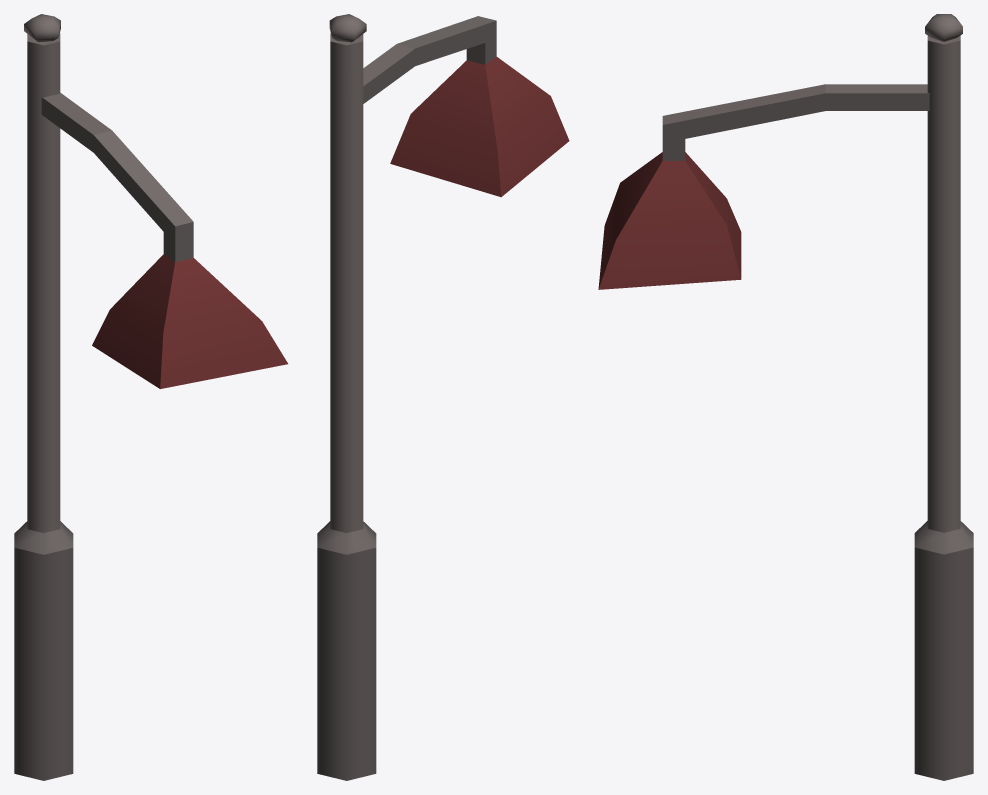
File: Street_Lamp_A.fbx
The picture shows the model from 3 angles, left to right: view 1: azimuth 30°, elevation 25°; view 2: azimuth 150°, elevation 25°; view 3: azimuth 270°, elevation 25°; orthographic projection.
Parts seen in each view (by area): view 1: Street_Lamp_A; view 2: Street_Lamp_A; view 3: Street_Lamp_A.
Boxes of the visible parts, x1=… form: Street_Lamp_A: x1=14, y1=14, x2=287, y2=780; Street_Lamp_A: x1=317, y1=14, x2=569, y2=780; Street_Lamp_A: x1=598, y1=14, x2=973, y2=780.
Bounding box in the file's own units: 103 × 591 × 268.
